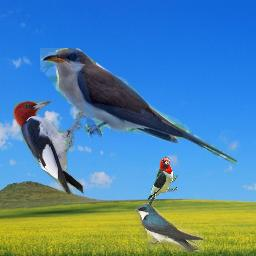Cuckoo: (40, 48, 237, 167)
Swallow: (135, 203, 204, 252)
Woodpecker: (11, 97, 87, 197), (146, 157, 178, 206)
